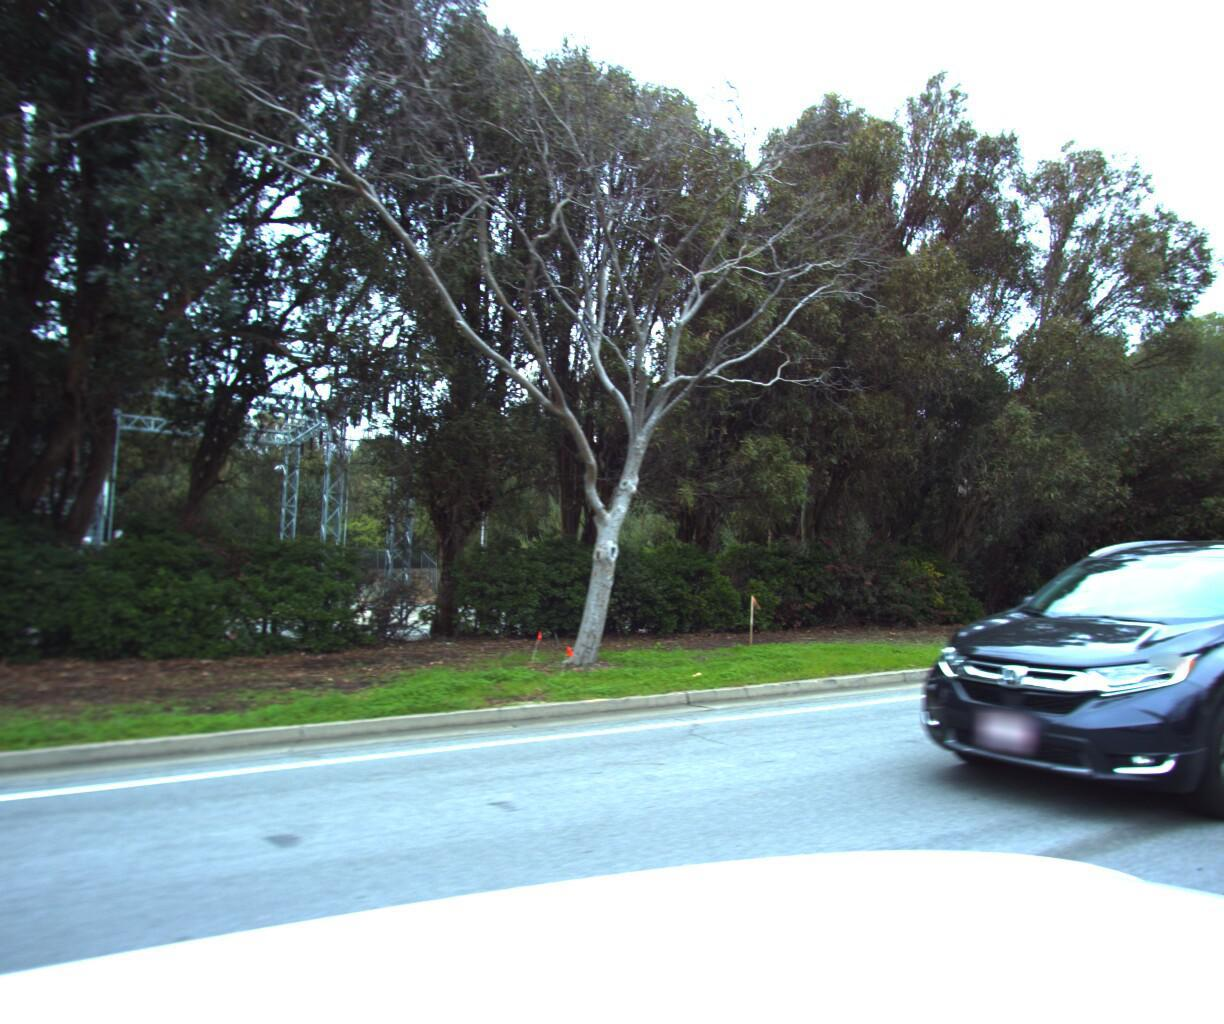car: (888, 511, 1224, 842)
